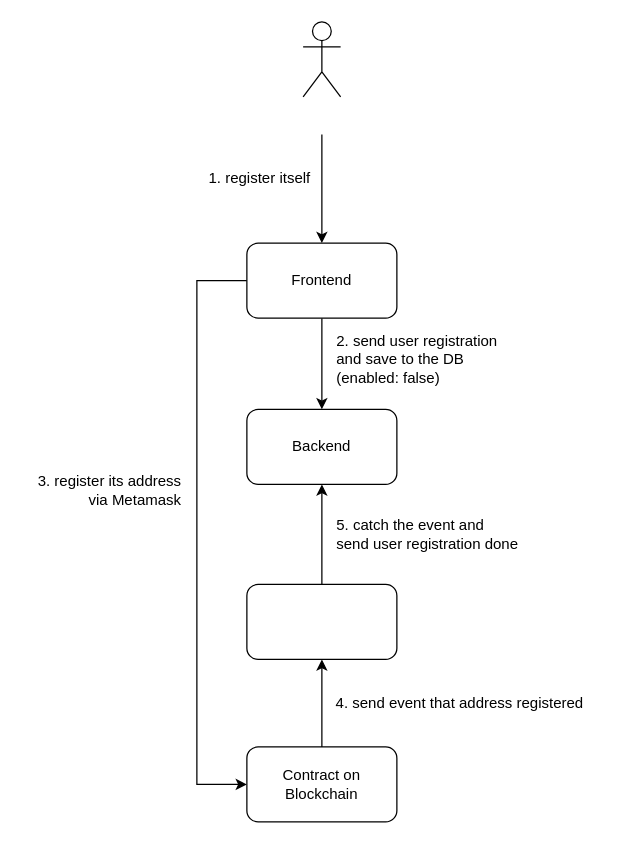
Image size: 618x844. Some labels were removed from this diagram. Here are the shapes that lost their labels. From the top down, the centre of each, then its label:
At (x=321, y=59): "User".
At (x=321, y=621): "Layer".
